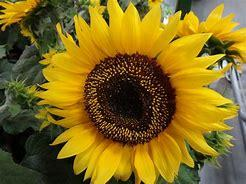sunflowers: (45, 3, 235, 183)
